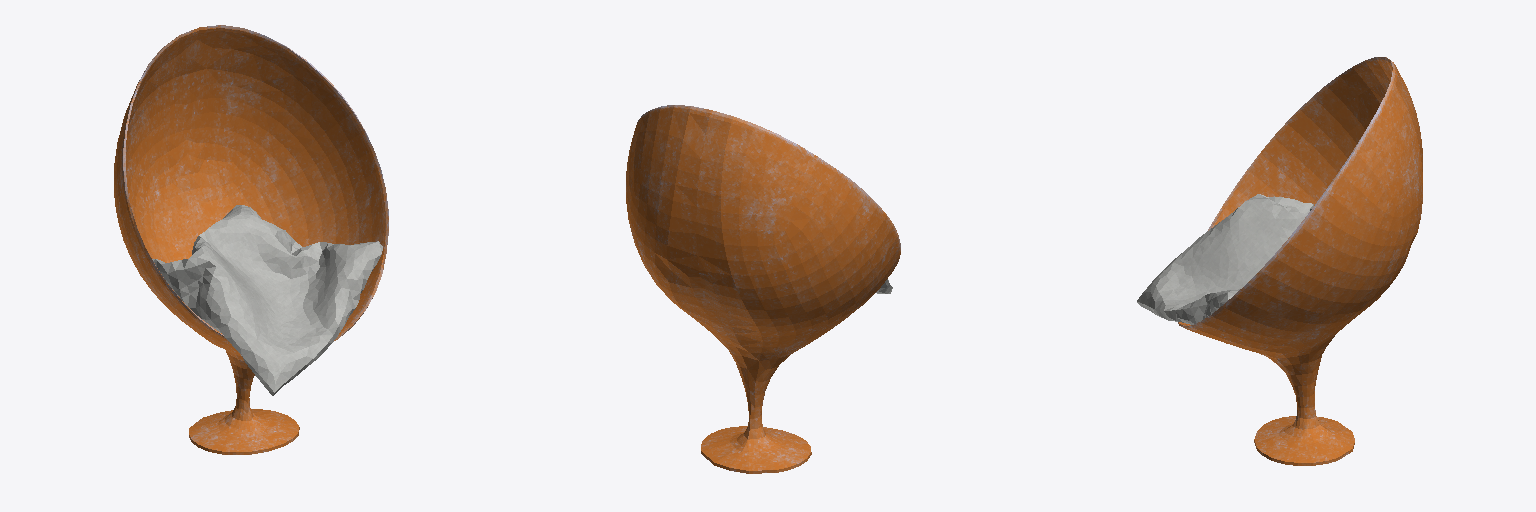
3 renders of one model, left to right at view 1: azimuth 30°, elevation 25°; view 2: azimuth 150°, elevation 25°; view 3: azimuth 270°, elevation 25°, orthographic.
Parts seen in each view (by area): view 1: Group26935; view 2: Group26935; view 3: Group26935.
Boxes of the visible parts, x1=… form: Group26935: x1=114, y1=25, x2=388, y2=454; Group26935: x1=626, y1=105, x2=900, y2=473; Group26935: x1=1137, y1=57, x2=1422, y2=465.
Bounding box in the file's own units: 31.91 × 46.51 × 32.28.
1 materials, 1 textured.